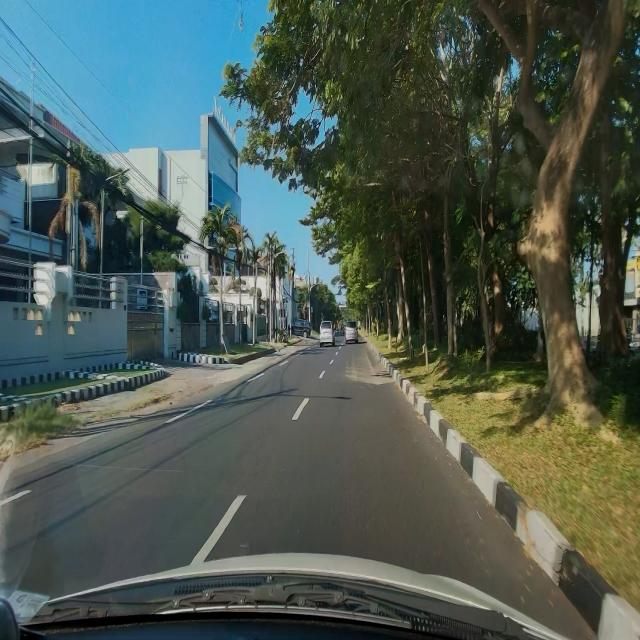car: (319, 320, 335, 348), (344, 320, 358, 346)
